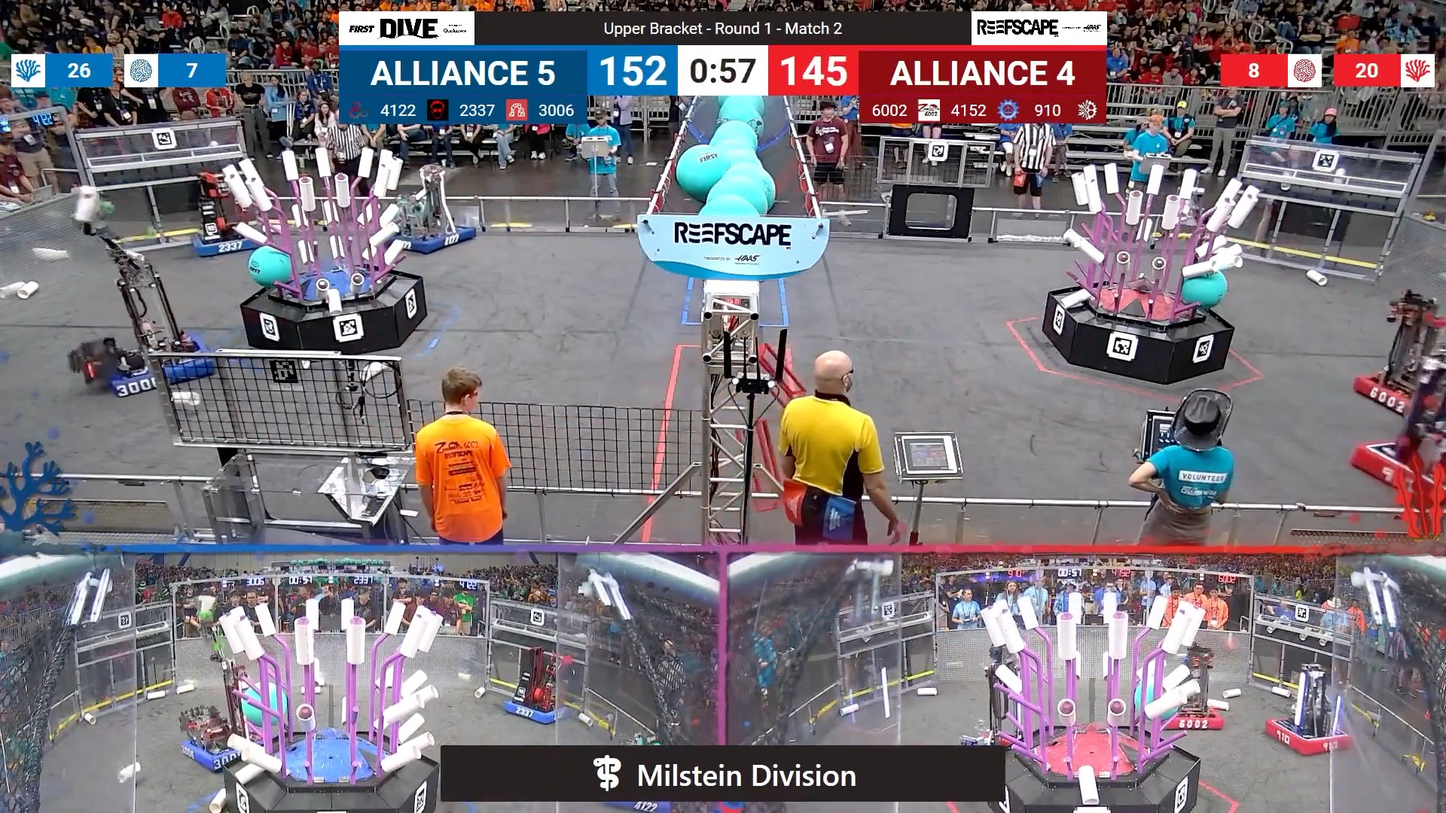bumpers: (76, 330, 222, 395), (1349, 426, 1445, 495), (1350, 363, 1445, 422), (1257, 715, 1357, 758), (381, 220, 483, 257), (175, 732, 256, 774), (184, 224, 275, 260), (1151, 698, 1231, 735), (497, 694, 573, 728)
